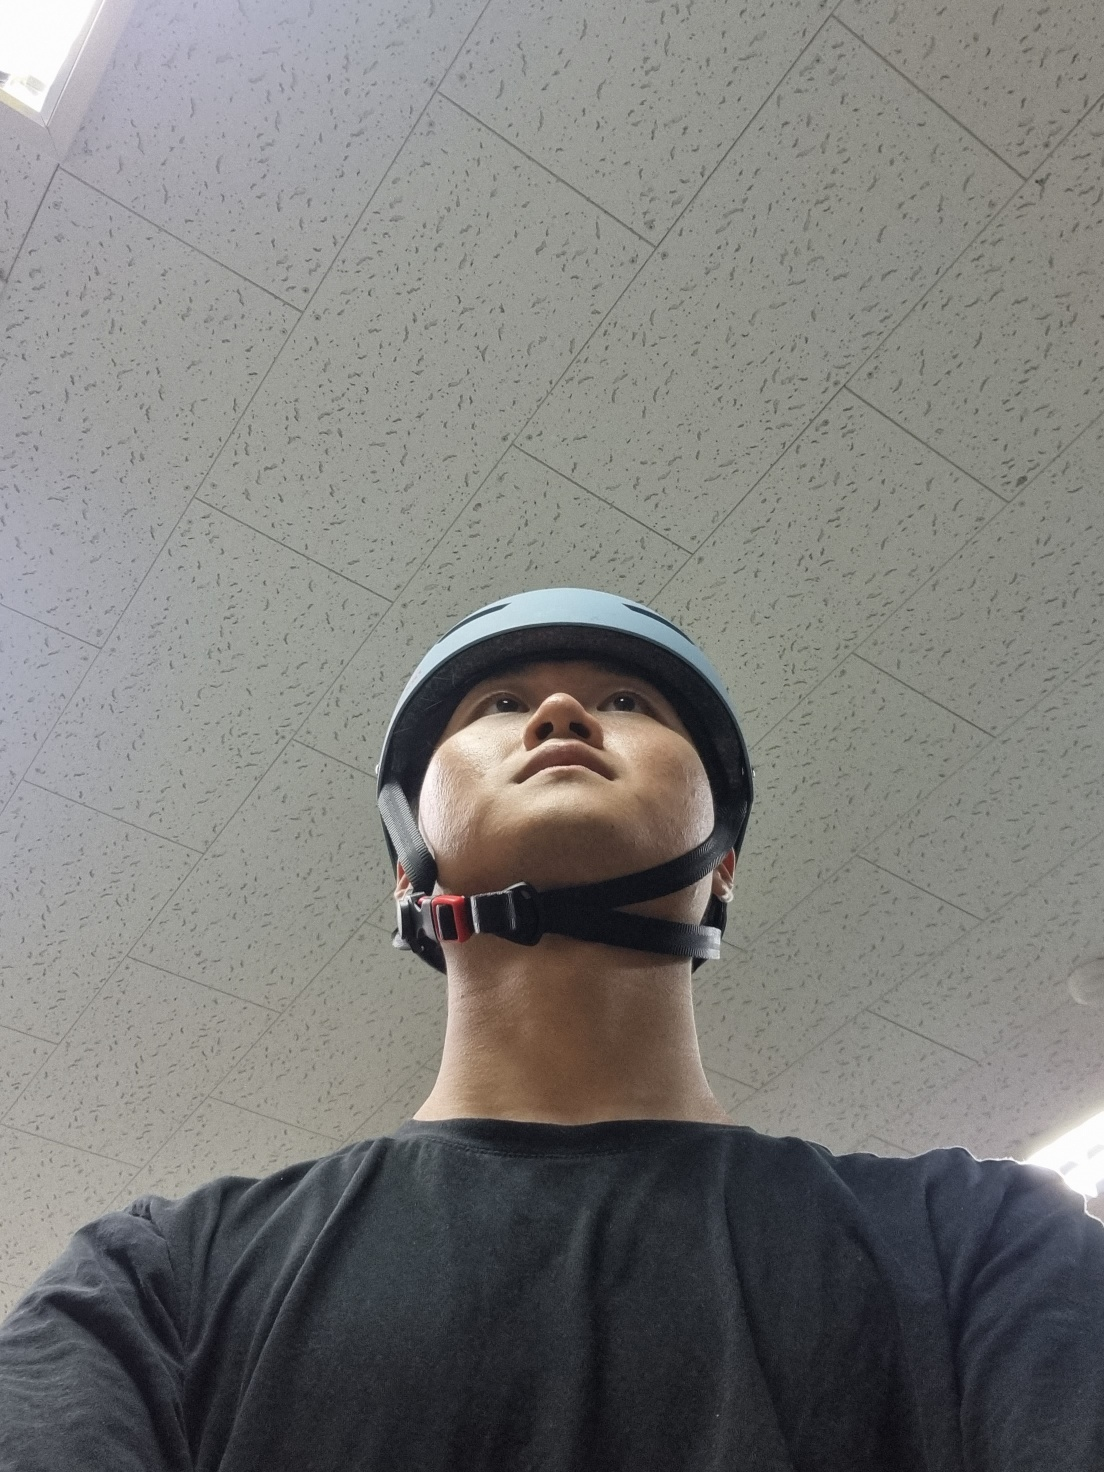Helmet: (341, 548, 804, 1052)
